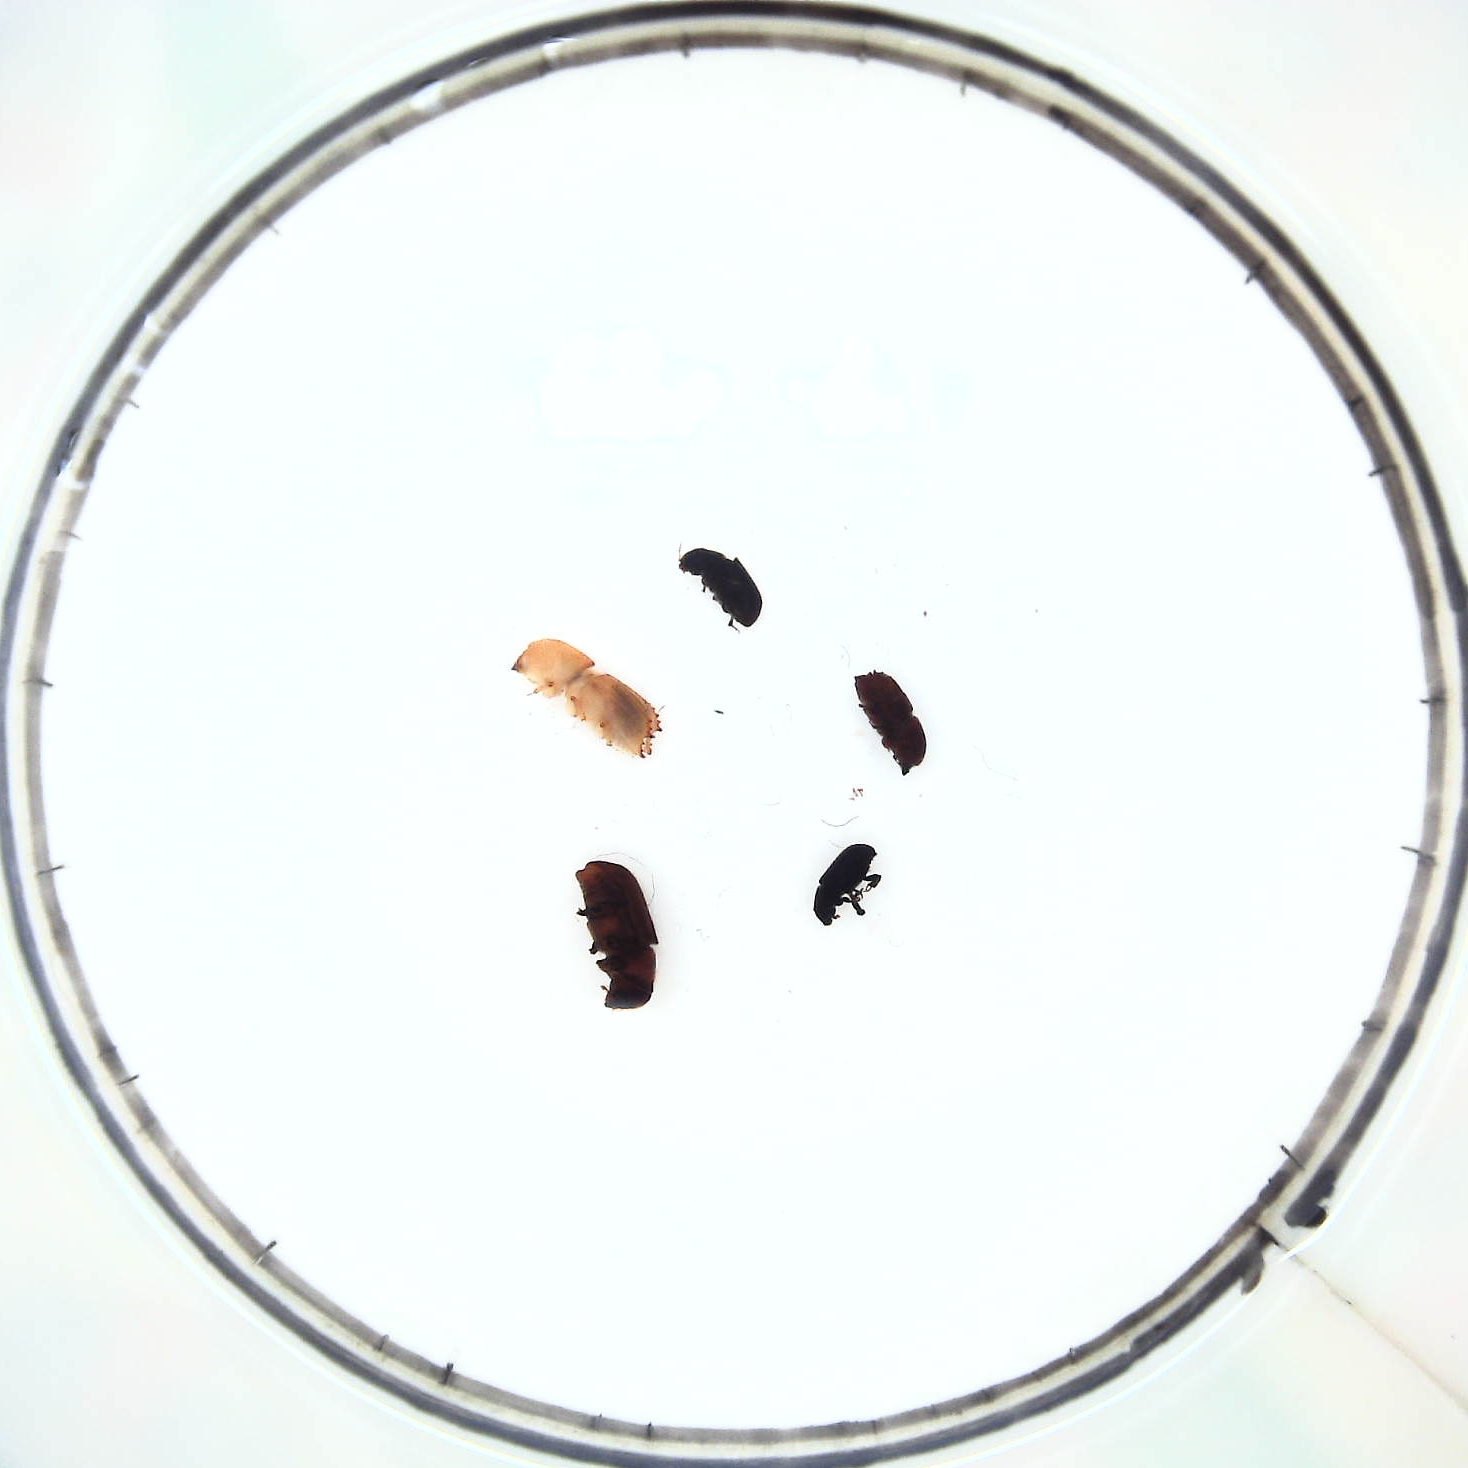Boerner: (509, 639, 660, 760)
Leconte: (570, 850, 660, 1014)
Linnaeus: (855, 665, 932, 782)
armandi: (672, 540, 765, 630)
coleoptera: (811, 838, 879, 924)
